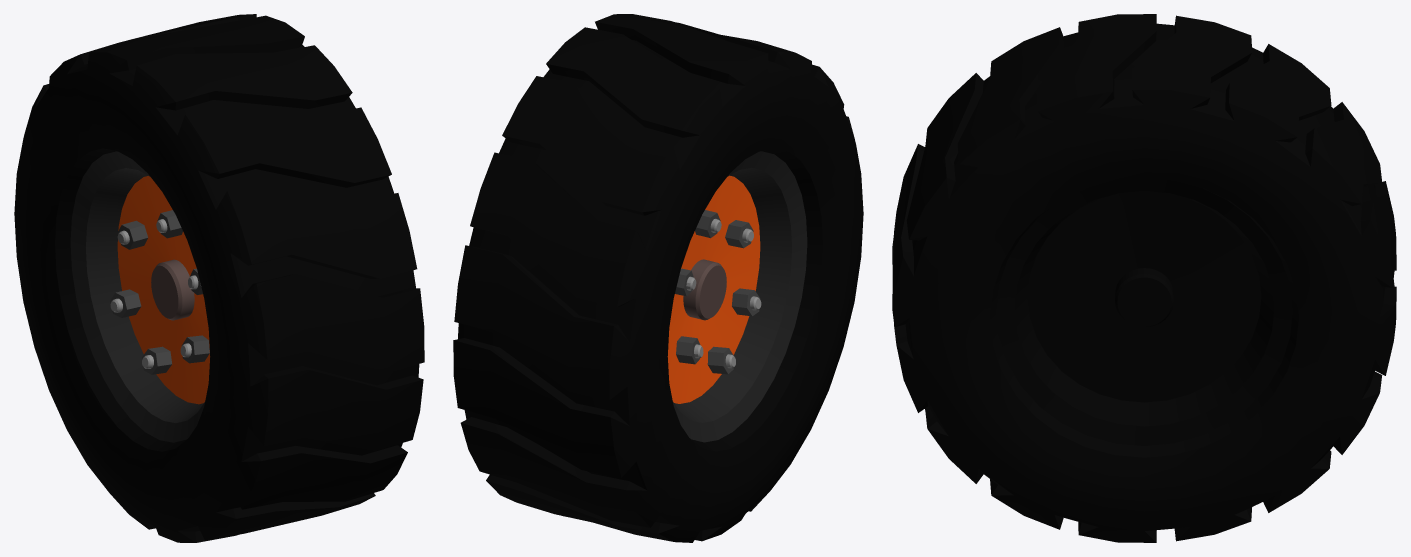
Rendered from load_wheel_R.glb.
The picture shows the model from 3 angles, left to right: view 1: azimuth 30°, elevation 25°; view 2: azimuth 150°, elevation 25°; view 3: azimuth 270°, elevation 25°; orthographic projection.
Visible parts, largest first — view 1: WHEELFRONT.001; view 2: WHEELFRONT.001; view 3: WHEELFRONT.001.
Boxes of the visible parts, x1,y1,x2,y2 form: WHEELFRONT.001: (14, 14, 424, 542); WHEELFRONT.001: (453, 14, 863, 542); WHEELFRONT.001: (892, 14, 1396, 542).
Size of the model in its own units: 0.2327 by 0.554 by 0.554.
Materials: 1 (1 with a texture image).
